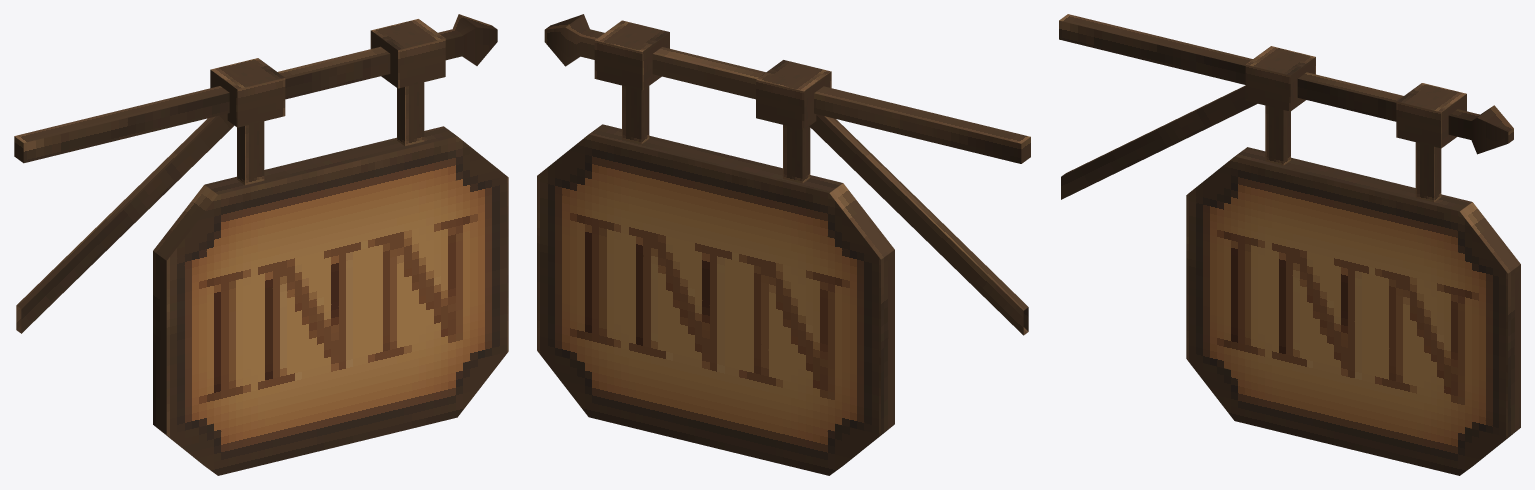
File: Signboard - INN3.fbx
3 views of the same model, side by side, from view 1: azimuth 30°, elevation 25°; view 2: azimuth 150°, elevation 25°; view 3: azimuth 330°, elevation 25° (orthographic). The views are drawn at different scales.
Visible parts, largest first — view 1: signboard_INN3; view 2: signboard_INN3; view 3: signboard_INN3.
Boxes of the visible parts, box(x1,y1,x2,y2) form: signboard_INN3: box(14, 14, 508, 475); signboard_INN3: box(537, 14, 1030, 475); signboard_INN3: box(1059, 14, 1520, 475).
Bounding box in the file's own units: 1.01 × 0.7713 × 0.0985.
